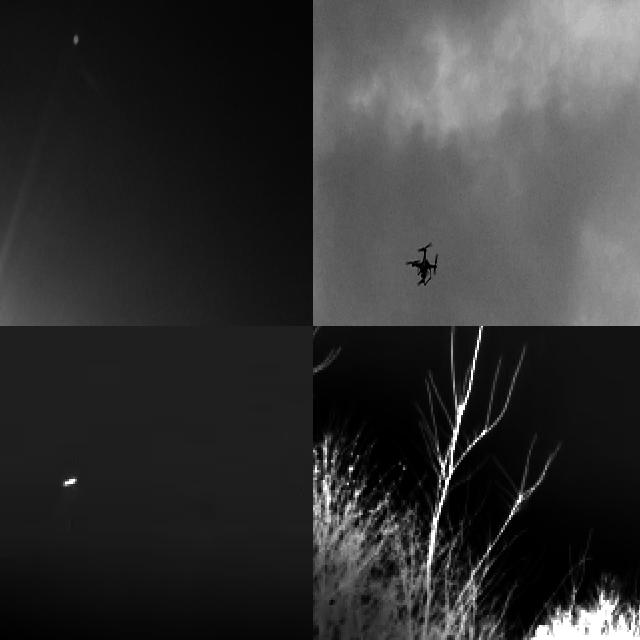0: (535, 326, 557, 336)
1: (53, 470, 87, 503)
drone: (408, 242, 440, 292)
